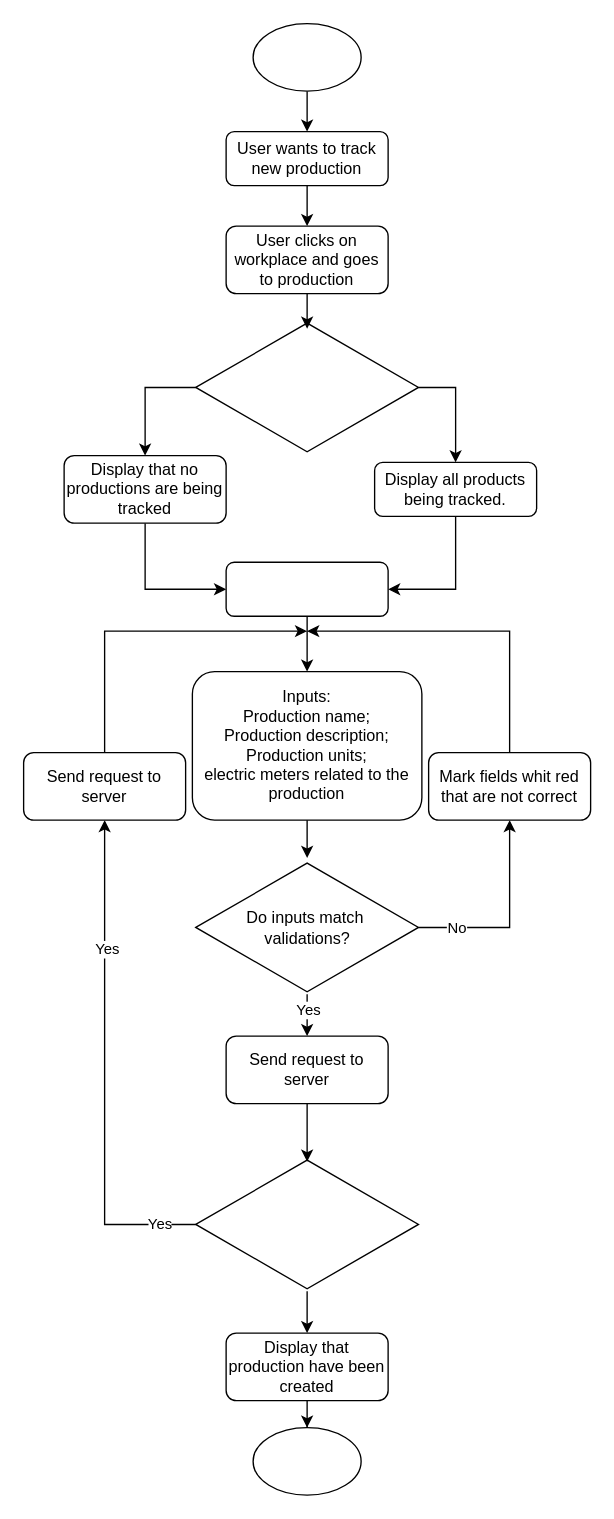
This 614x1519 diagram has some shape labels left out. Each missing label, with the box of its shape:
Dos production exist?: (194, 1156, 418, 1291)
End: (252, 1426, 361, 1495)
Is there any productions being tracked?: (194, 319, 418, 454)
Start: (252, 22, 361, 91)
User selects that he wants to start: (225, 561, 388, 616)
